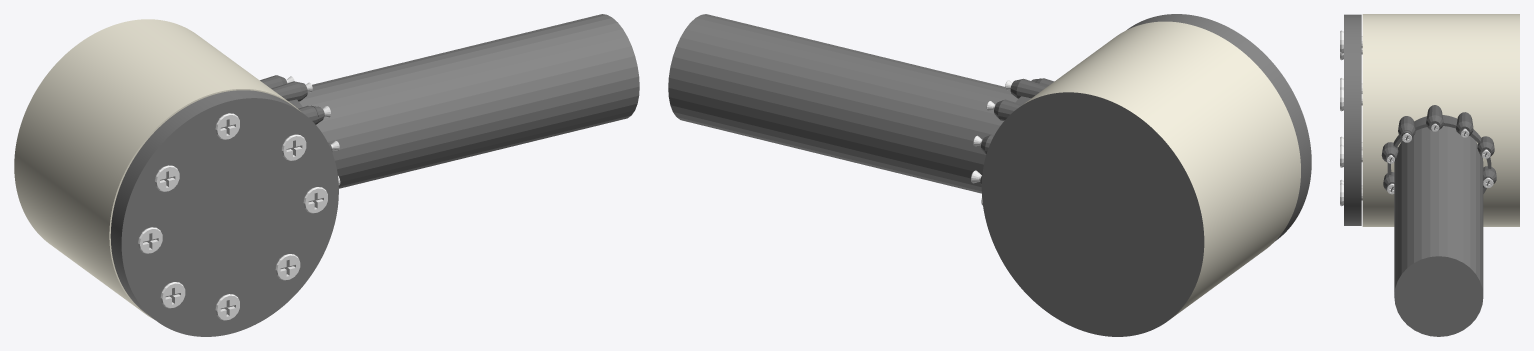
Rendered from drum_arm.dae.
3 renders of one model, left to right at view 1: azimuth 30°, elevation 25°; view 2: azimuth 150°, elevation 25°; view 3: azimuth 270°, elevation 25°, orthographic. The views are drawn at different scales.
Parts seen in each view (by area): view 1: Arm_Cylinder_Seal, Arm_Itself, Drum_Arm, Arm_Seal, Screw_006, Screw_001, Screw_003, Screw_005, Screw_004, Screw, Screw_007, Screw_002; view 2: Drum_Arm, Arm_Itself, Arm_Cylinder_Seal, Arm_Seal; view 3: Drum_Arm, Arm_Itself, Arm_Cylinder_Seal, Arm_Seal.
Boxes of the visible parts, x1,y1,x2,y2 form: Arm_Cylinder_Seal: (110, 90, 338, 336); Arm_Itself: (299, 14, 639, 188); Drum_Arm: (14, 19, 300, 319); Arm_Seal: (260, 75, 332, 151); Screw_006: (154, 165, 179, 191); Screw_001: (281, 134, 306, 160); Screw_003: (275, 254, 300, 280); Screw_005: (138, 227, 162, 253); Screw_004: (160, 282, 185, 308); Screw: (215, 113, 239, 139); Screw_007: (215, 294, 239, 320); Screw_002: (303, 187, 327, 213); Drum_Arm: (981, 21, 1300, 336); Arm_Itself: (668, 14, 1018, 193); Arm_Cylinder_Seal: (1127, 14, 1311, 240); Arm_Seal: (980, 78, 1054, 184); Drum_Arm: (1362, 14, 1519, 226); Arm_Itself: (1394, 126, 1483, 336); Arm_Cylinder_Seal: (1344, 14, 1361, 225); Arm_Seal: (1381, 105, 1496, 193).
Bounding box in the file's own units: 1.57 × 0.5379 × 0.6397.
